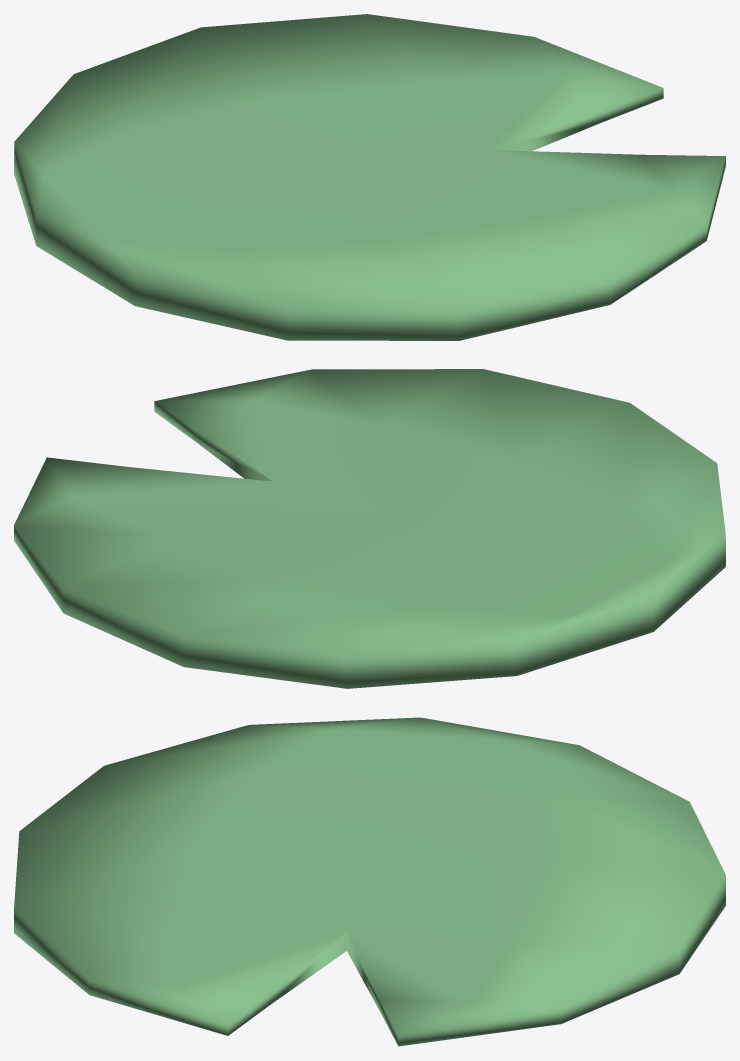
File: lilypad4.fbx
The picture shows the model from 3 angles, top to bottom: view 1: azimuth 30°, elevation 25°; view 2: azimuth 150°, elevation 25°; view 3: azimuth 270°, elevation 25°; orthographic projection.
Parts seen in each view (by area): view 1: lilypad4; view 2: lilypad4; view 3: lilypad4.
Part boxes in pixels (x1=…): lilypad4: x1=14, y1=14, x2=725, y2=340; lilypad4: x1=14, y1=369, x2=725, y2=688; lilypad4: x1=14, y1=717, x2=725, y2=1046.
Size of the model in its own units: 83.11 by 4.59 by 82.81.
